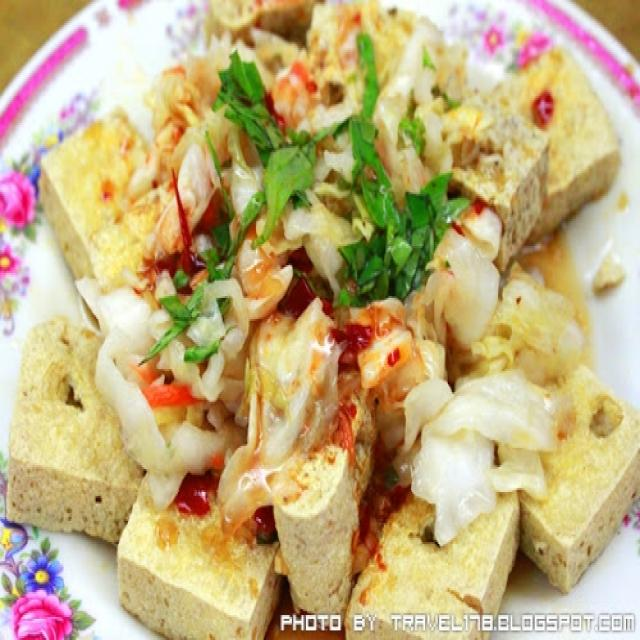豆腐料理: (11, 17, 626, 621)
